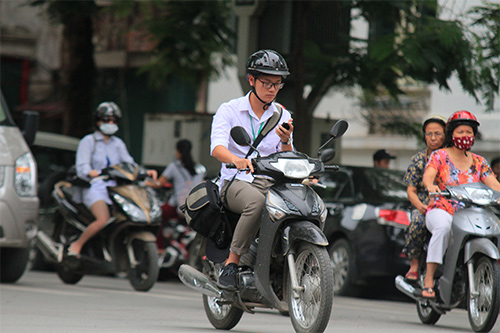dieu khien xe may: (210, 47, 328, 249)
su dung dien thoai: (249, 48, 295, 145)
